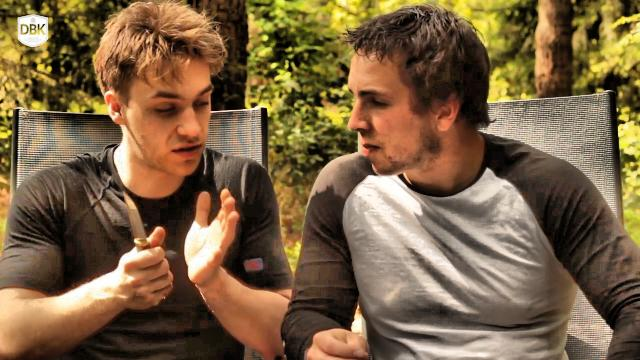knife: (106, 181, 178, 291)
